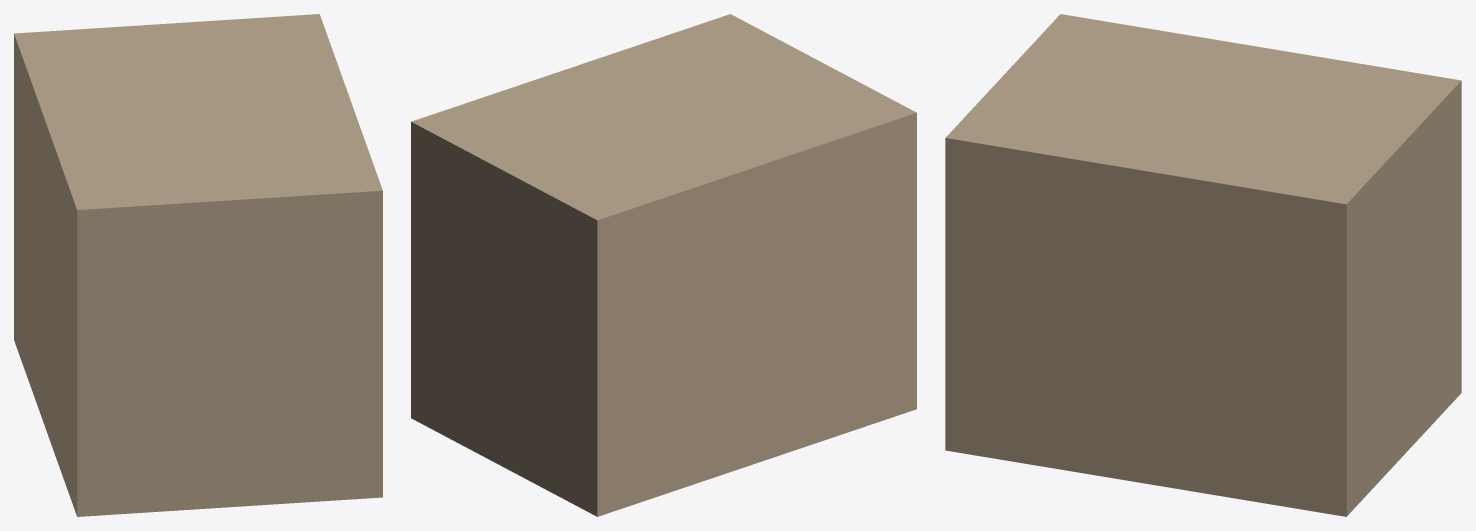
File: bld_99020330.dae
3 views of the same model, side by side, from view 1: azimuth 30°, elevation 25°; view 2: azimuth 150°, elevation 25°; view 3: azimuth 270°, elevation 25° (orthographic). The views are drawn at different scales.
Parts seen in each view (by area): view 1: bld_99020330; view 2: bld_99020330; view 3: bld_99020330.
Part boxes in pixels (left/top/right/bottom): bld_99020330: left=14, top=14, right=382, bottom=516; bld_99020330: left=411, top=14, right=916, bottom=516; bld_99020330: left=945, top=14, right=1461, bottom=516.
Size of the model in its own units: 10.45 by 11.97 by 8.
